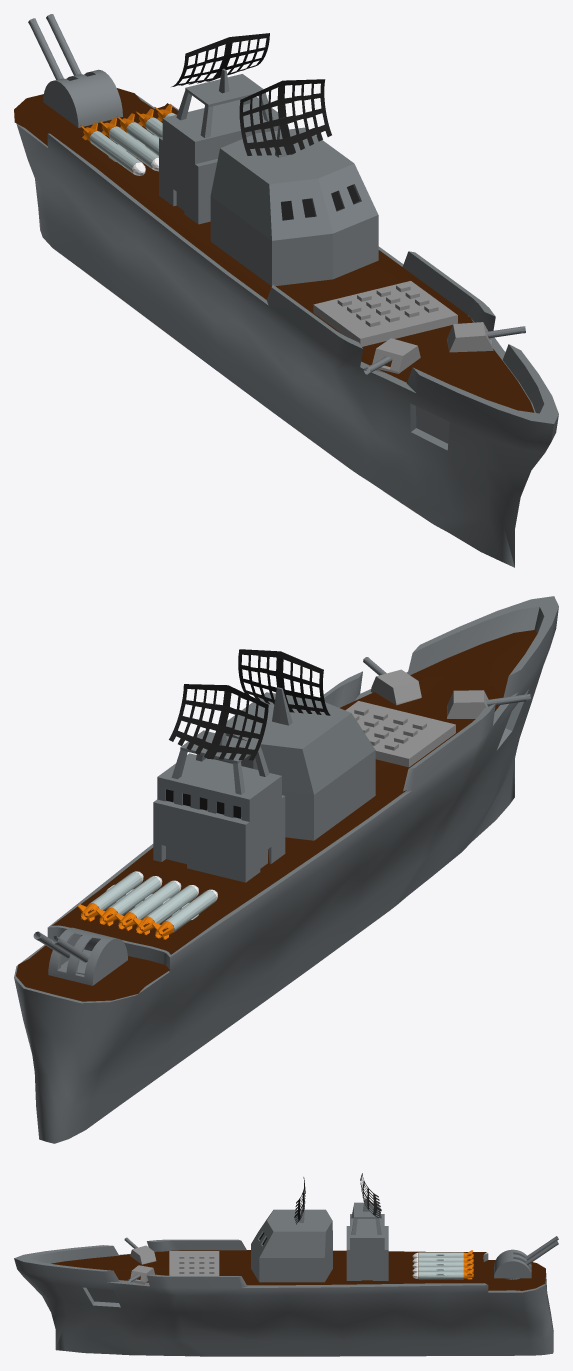
File: cimpletoon.f32c67875649.cruiser.glb
3 renders of one model, top to bottom at view 1: azimuth 30°, elevation 25°; view 2: azimuth 150°, elevation 25°; view 3: azimuth 270°, elevation 25°, orthographic. The views are drawn at different scales.
Parts seen in each view (by area): view 1: cruiser.glb; view 2: cruiser.glb; view 3: cruiser.glb.
Boxes of the visible parts, box(x1,y1,x2,y2) form: cruiser.glb: box(14, 14, 558, 567); cruiser.glb: box(14, 596, 558, 1143); cruiser.glb: box(14, 1173, 558, 1356).
Size of the model in its own units: 0.859 by 1.61 by 4.62.
1 material, 1 textured.
